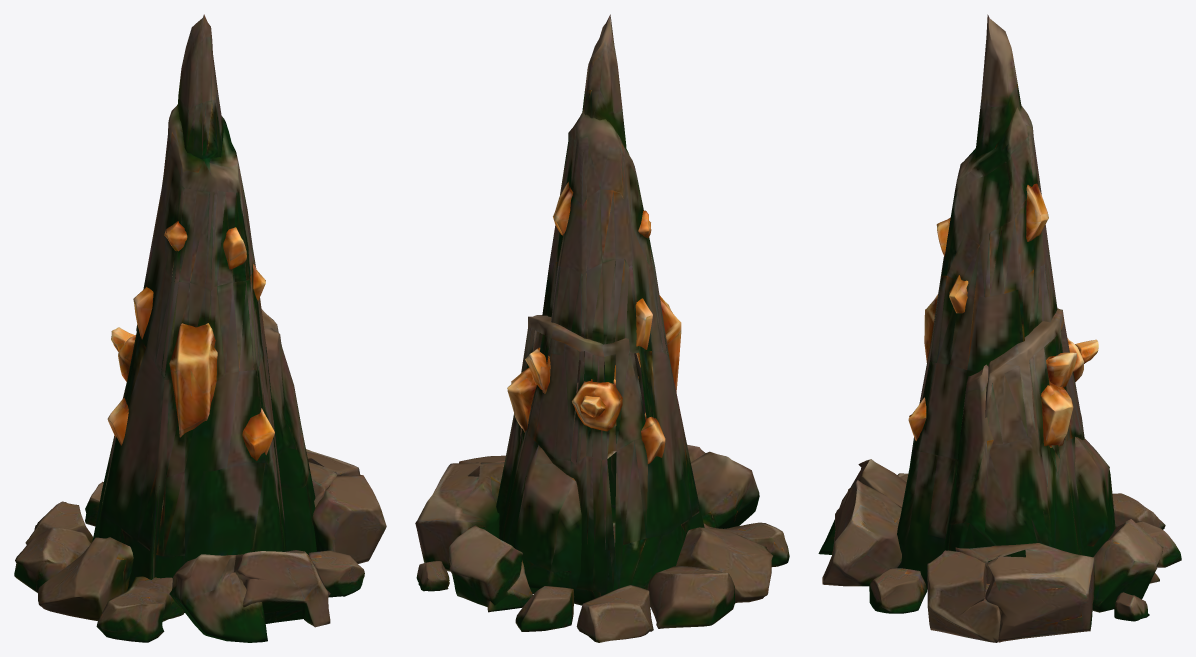
The model's file is spike.glb.
3 renders of one model, left to right at view 1: azimuth 30°, elevation 25°; view 2: azimuth 150°, elevation 25°; view 3: azimuth 270°, elevation 25°, orthographic. The views are drawn at different scales.
Parts seen in each view (by area): view 1: geometry_0; view 2: geometry_0; view 3: geometry_0.
Part boxes in pixels (<box>): geometry_0: <box>14,14,386,642</box>; geometry_0: <box>415,14,789,642</box>; geometry_0: <box>818,14,1181,642</box>.
Size of the model in its own units: 0.5815 by 0.9526 by 0.5688.
1 material, 1 textured.
